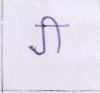i_matra: (43, 16, 64, 53)
